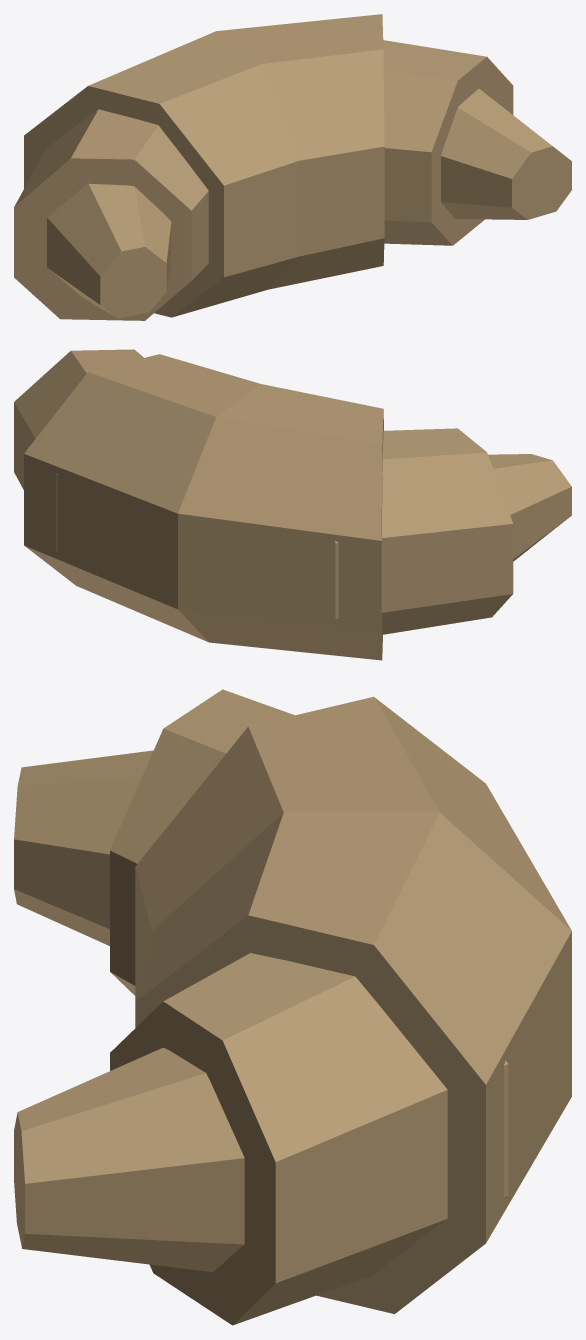
Rendered from Croissant.gltf.
The picture shows the model from 3 angles, top to bottom: view 1: azimuth 30°, elevation 25°; view 2: azimuth 150°, elevation 25°; view 3: azimuth 270°, elevation 25°; orthographic projection. The views are drawn at different scales.
Parts seen in each view (by area): view 1: Croissant; view 2: Croissant; view 3: Croissant.
Boxes of the visible parts, left/top/right/bottom form: Croissant: left=14, top=14, right=571, bottom=320; Croissant: left=14, top=349, right=571, bottom=660; Croissant: left=14, top=689, right=571, bottom=1325.
Bounding box in the file's own units: 1.3 × 0.5498 × 0.7305.
